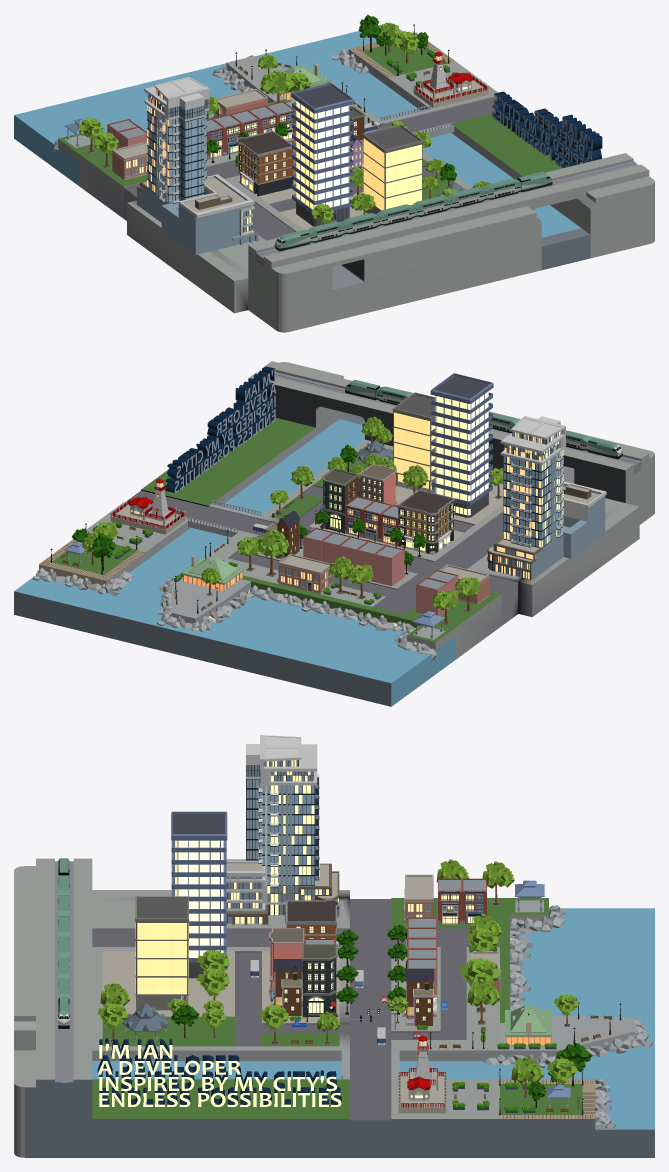
File: PortCredit2-PreBakeNightTime2.glb
3 renders of one model, top to bottom at view 1: azimuth 30°, elevation 25°; view 2: azimuth 150°, elevation 25°; view 3: azimuth 270°, elevation 25°, orthographic. The views are drawn at different scales.
Visible parts, largest first — view 1: Base, skyscraper-C_cgcookie, HURONTARIO_BOTTOM_NIGHT, HURONTARIO_MIDDLE_NIGHT, skyscraper-B_cgcookie, residential-corner-D_cgcookie, HURONTARIO_TOP_NIGHT, Lighthouse__NIGHT, tree-small_cgcookie (×3), STARCH_BUILDING_NIGHT, WATERSIDE_BUILDING_+NIGHT, SHOP_7_NIGHT (+14 smaller); view 2: Base, skyscraper-C_cgcookie, HURONTARIO_MIDDLE_NIGHT, HURONTARIO_BOTTOM_NIGHT, skyscraper-B_cgcookie, residential-corner-D_cgcookie, HURONTARIO_TOP_NIGHT, Lighthouse__NIGHT, residential-corner-A_cgcookie, WATERSIDE_BUILDING_+NIGHT, Icosphere.133, residential_B_cgcookie (+13 smaller); view 3: Base, skyscraper-C_cgcookie, HURONTARIO_MIDDLE_NIGHT, skyscraper-B_cgcookie, HURONTARIO_BOTTOM_NIGHT, tree-small_cgcookie (×5), HURONTARIO_TOP_NIGHT, residential_C_cgcookie (×2), residential-corner-A_cgcookie, Lighthouse__NIGHT, residential-corner-D_cgcookie, SNUG_HARBOUR_NIGHT (+6 smaller).
Part boxes in pixels (left/top/right/bottom): Base: left=14, top=23, right=654, bottom=332; skyscraper-C_cgcookie: left=291, top=82, right=354, bottom=226; HURONTARIO_BOTTOM_NIGHT: left=137, top=174, right=258, bottom=254; HURONTARIO_MIDDLE_NIGHT: left=147, top=105, right=206, bottom=203; skyscraper-B_cgcookie: left=362, top=124, right=423, bottom=213; residential-corner-D_cgcookie: left=236, top=130, right=293, bottom=196; HURONTARIO_TOP_NIGHT: left=144, top=77, right=209, bottom=121; Lighthouse__NIGHT: left=413, top=51, right=488, bottom=107; tree-small_cgcookie (×3): left=78, top=70, right=294, bottom=168; STARCH_BUILDING_NIGHT: left=112, top=141, right=146, bottom=180; WATERSIDE_BUILDING_+NIGHT: left=214, top=89, right=267, bottom=117; SHOP_7_NIGHT: left=212, top=114, right=242, bottom=155; Base: left=14, top=361, right=654, bottom=706; skyscraper-C_cgcookie: left=430, top=373, right=493, bottom=517; HURONTARIO_MIDDLE_NIGHT: left=503, top=450, right=563, bottom=548; HURONTARIO_BOTTOM_NIGHT: left=487, top=481, right=606, bottom=580; skyscraper-B_cgcookie: left=392, top=392, right=435, bottom=492; residential-corner-D_cgcookie: left=397, top=489, right=455, bottom=554; HURONTARIO_TOP_NIGHT: left=500, top=416, right=565, bottom=464; Lighthouse__NIGHT: left=110, top=478, right=185, bottom=534; residential-corner-A_cgcookie: left=319, top=468, right=358, bottom=533; WATERSIDE_BUILDING_+NIGHT: left=278, top=554, right=332, bottom=594; Icosphere.133: left=37, top=567, right=436, bottom=659; residential_B_cgcookie: left=359, top=464, right=397, bottom=505; Base: left=14, top=858, right=654, bottom=1157; skyscraper-C_cgcookie: left=171, top=811, right=227, bottom=978; HURONTARIO_MIDDLE_NIGHT: left=246, top=774, right=319, bottom=887; skyscraper-B_cgcookie: left=135, top=896, right=188, bottom=1010; HURONTARIO_BOTTOM_NIGHT: left=226, top=859, right=339, bottom=924; tree-small_cgcookie (×5): left=197, top=861, right=543, bottom=1097; HURONTARIO_TOP_NIGHT: left=246, top=735, right=317, bottom=785; residential_C_cgcookie (×2): left=270, top=959, right=436, bottom=1025; residential-corner-A_cgcookie: left=302, top=944, right=338, bottom=1017; Lighthouse__NIGHT: left=398, top=1035, right=446, bottom=1113; residential-corner-D_cgcookie: left=286, top=899, right=339, bottom=970; SNUG_HARBOUR_NIGHT: left=505, top=1005, right=552, bottom=1045.
Size of the model in its own units: 33.53 by 13.26 by 39.4.
Materials: 38 (4 with a texture image).
